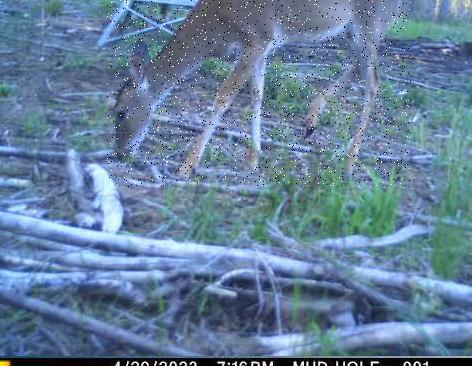Deer: (107, 0, 411, 187)
